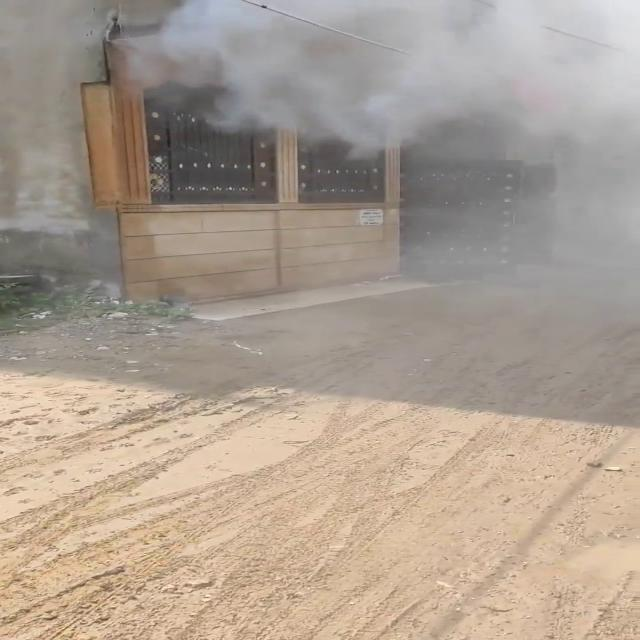Smoke: (138, 0, 639, 152)
